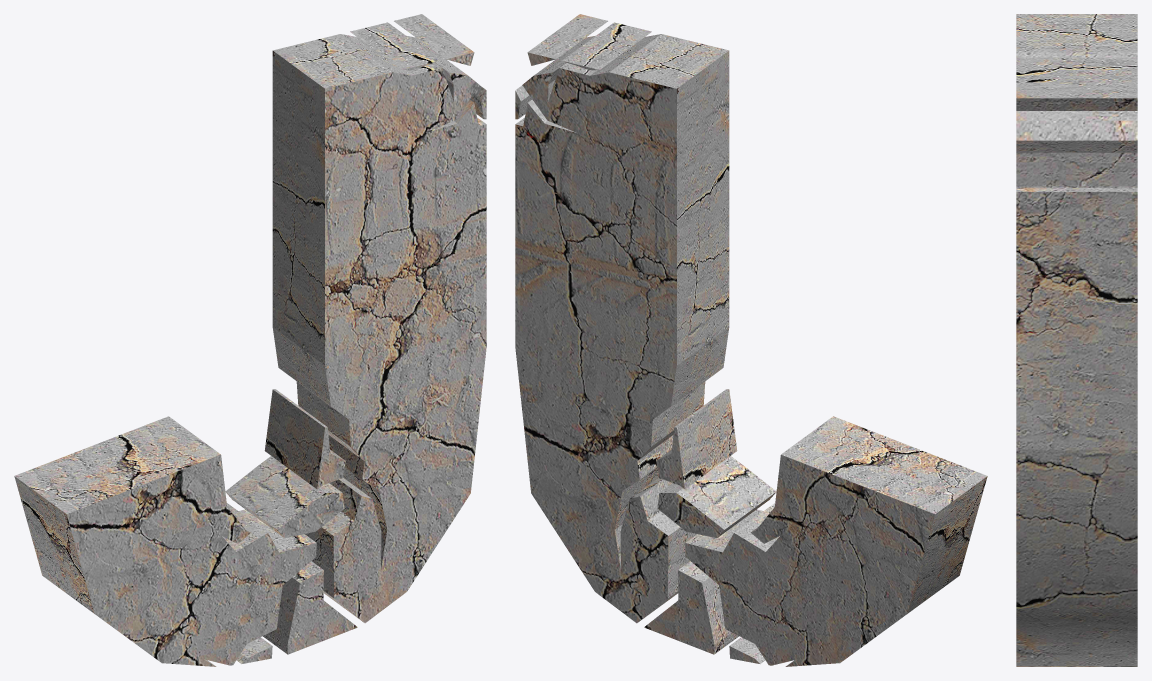
3 renders of one model, left to right at view 1: azimuth 30°, elevation 25°; view 2: azimuth 150°, elevation 25°; view 3: azimuth 270°, elevation 25°, orthographic. The views are drawn at different scales.
Visible parts, largest first — view 1: J; view 2: J; view 3: J.
Boxes of the visible parts, bbox=[...] form: J: bbox=[14, 14, 486, 666]; J: bbox=[515, 14, 987, 666]; J: bbox=[1016, 14, 1137, 666].
Size of the model in its own units: 69.36 by 87.88 by 15.
Materials: 1 (1 with a texture image).
